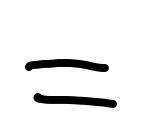eqv: (19, 56, 121, 111)
